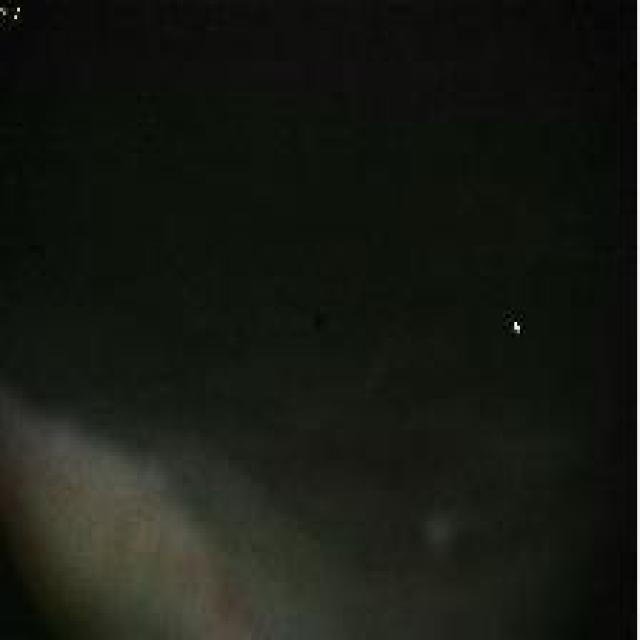blur: (22, 410, 370, 632)
color misalignment: (2, 7, 23, 25)
contrast: (9, 13, 628, 618)
